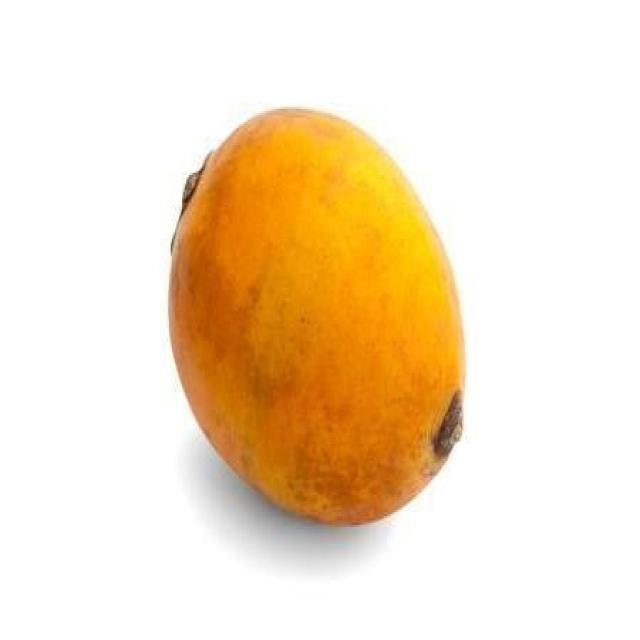good: (168, 109, 468, 529)
